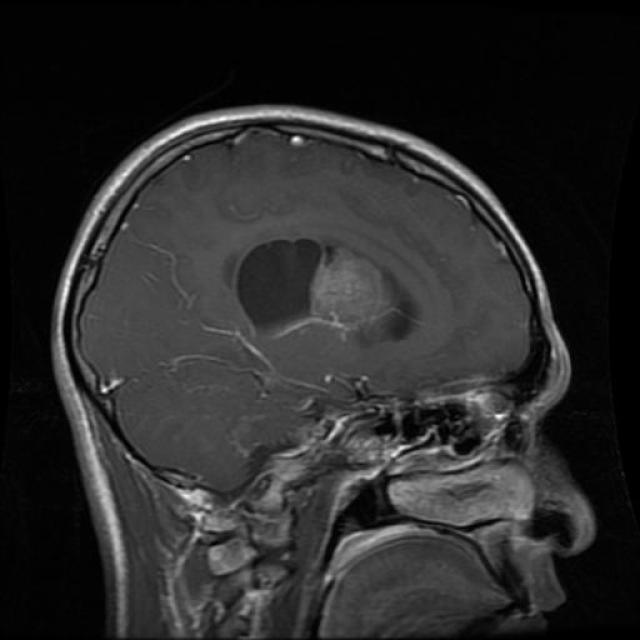glioma: (234, 240, 422, 350)
